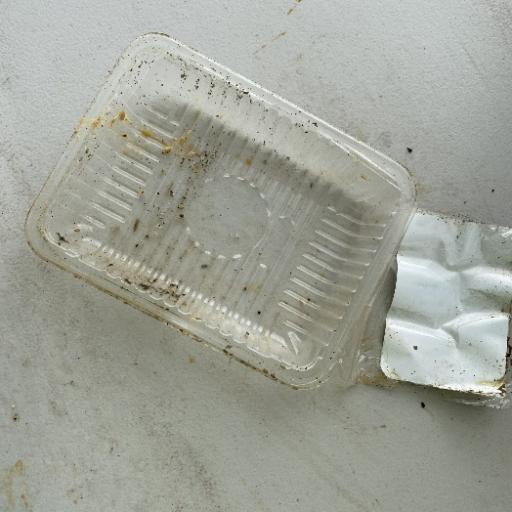Plastic: (24, 30, 508, 404)
